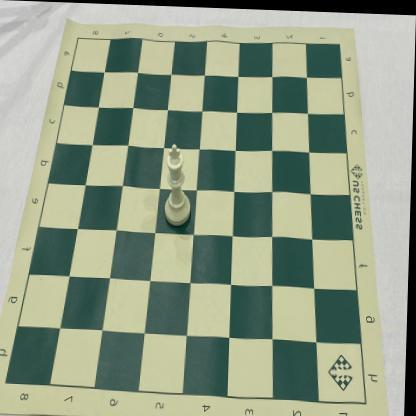white-king: (165, 142, 194, 226)
